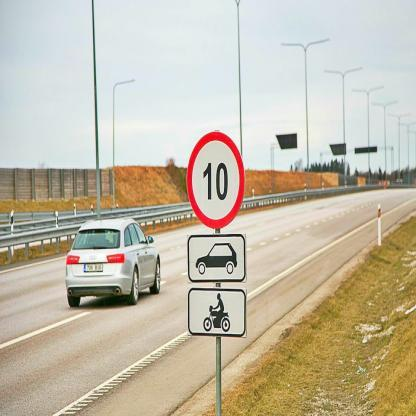road_sign: (187, 132, 244, 227), (189, 287, 246, 335), (187, 234, 245, 281)
